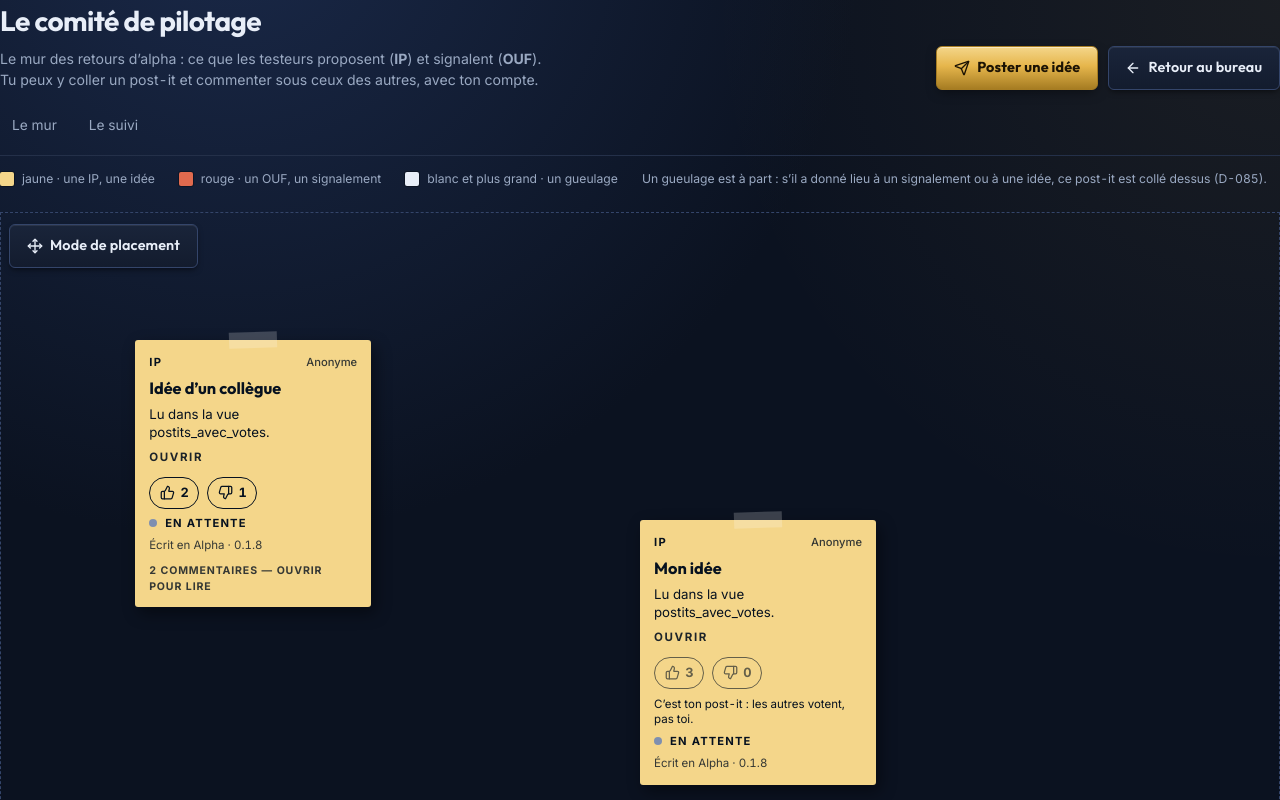
Test: le retrait d’administration (#186) › retirer le post-it d’un autre passe par la confirmation, puis par la couture
Expected: the text "Idée d’un collègue" is shown, x1=149 y1=378 x2=281 y2=398
What coordinates should you click on to do the following:
click the button with aria-label "Agrandir le post-it « Idée d’un collègue »"
I would click on:
 (253, 410)
Its box is x1=149 y1=354 x2=357 y2=467.
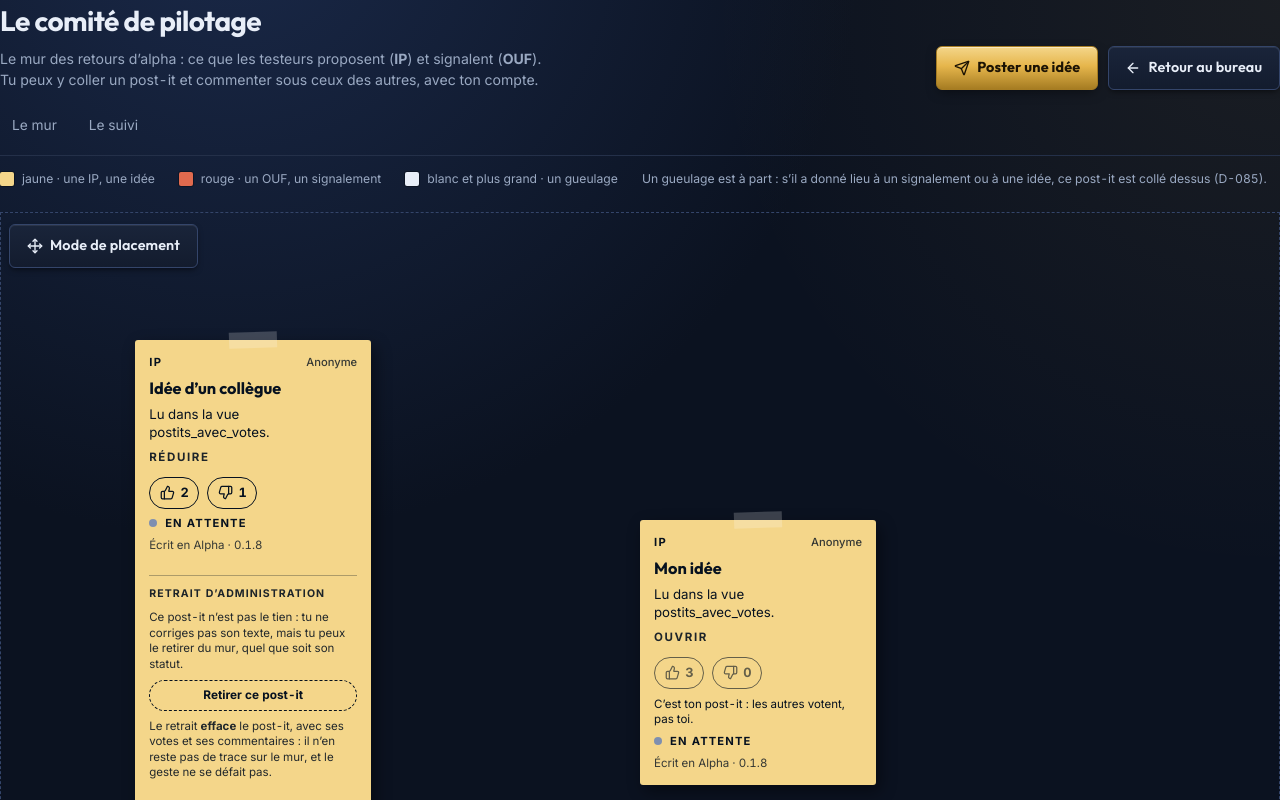
What coordinates should you click on to do the following:
click the button "Retirer ce post-it"
I would click on:
 (253, 696)
Its box is x1=149 y1=680 x2=357 y2=711.
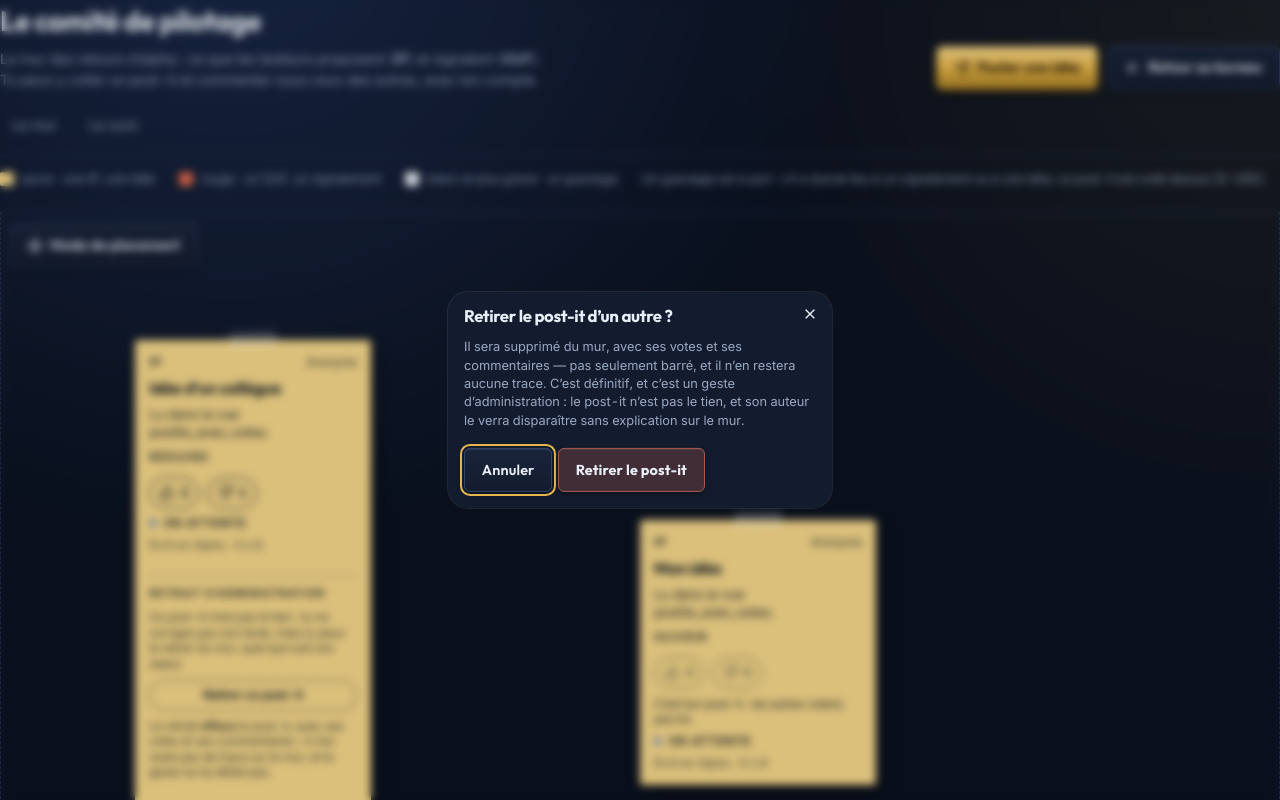
Now the dialog "Retirer le post-it d’un autre ?" shows "avec ses votes et ses commentaires", box x1=464 y1=339 x2=809 y2=427
What coordinates should you click on to do the following:
click the button "Retirer le post-it"
I would click on:
 (631, 470)
Its box is x1=558 y1=448 x2=705 y2=492.
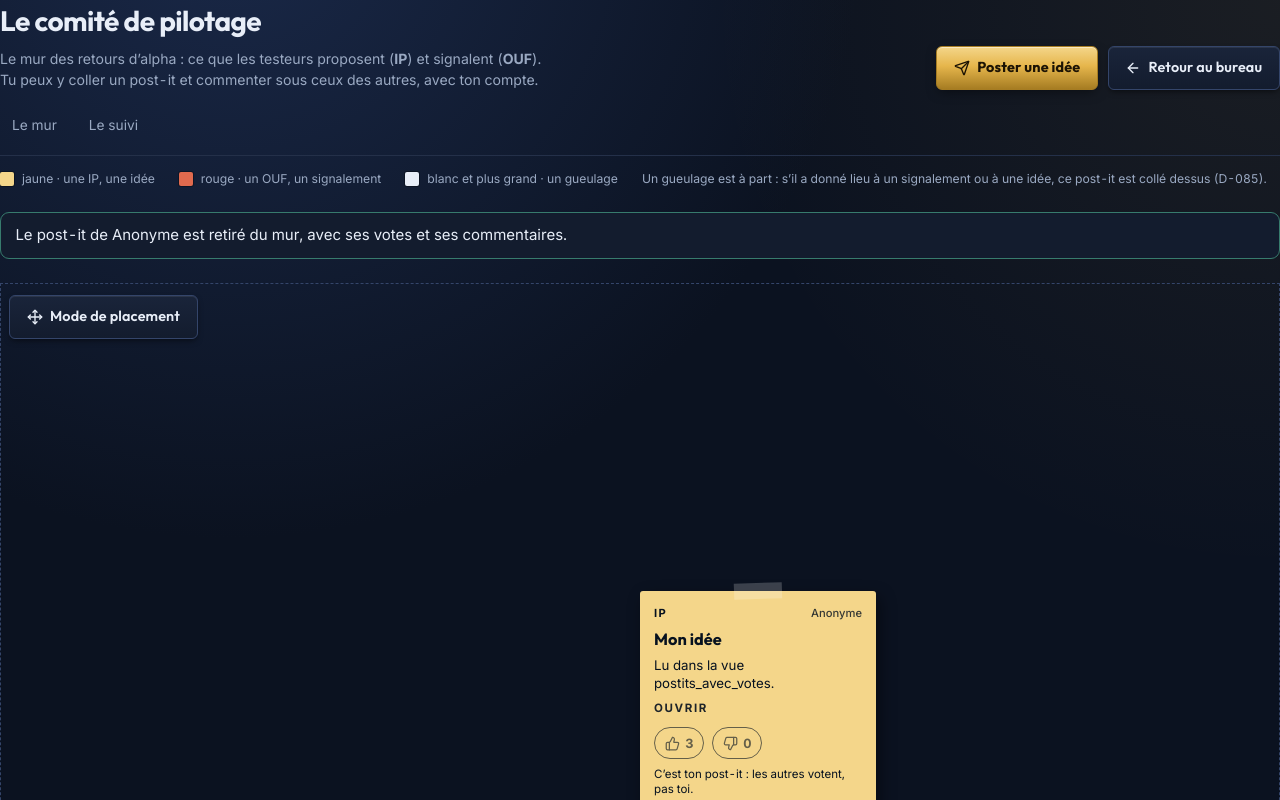
Now the button "Idée d’un collègue" is gone
Now the text "Le post-it de Anonyme est retiré du mur" is shown, box x1=15 y1=225 x2=567 y2=244
